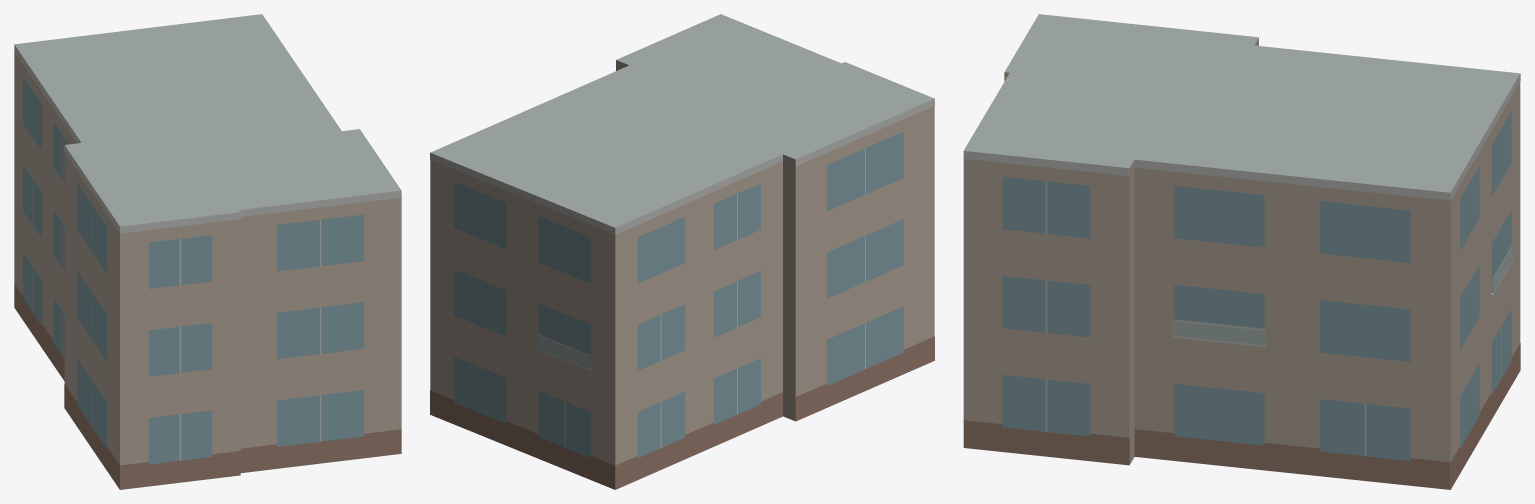
File: survey-upis-33012466.glb
3 renders of one model, left to right at view 1: azimuth 30°, elevation 25°; view 2: azimuth 150°, elevation 25°; view 3: azimuth 270°, elevation 25°, orthographic. The views are drawn at different scales.
Parts seen in each view (by area): view 1: survey-upis-33012466.tmp; view 2: survey-upis-33012466.tmp; view 3: survey-upis-33012466.tmp.
Boxes of the visible parts, x1,y1,x2,y2 form: survey-upis-33012466.tmp: (14, 14, 401, 489); survey-upis-33012466.tmp: (430, 14, 934, 489); survey-upis-33012466.tmp: (963, 14, 1520, 489).
Size of the model in its own units: 11.82 by 9.15 by 15.55.
